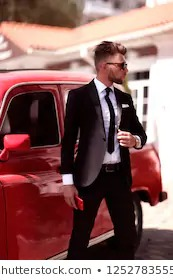F_M_suit jacket: (59, 75, 154, 196)
F_tie: (102, 87, 115, 153)
